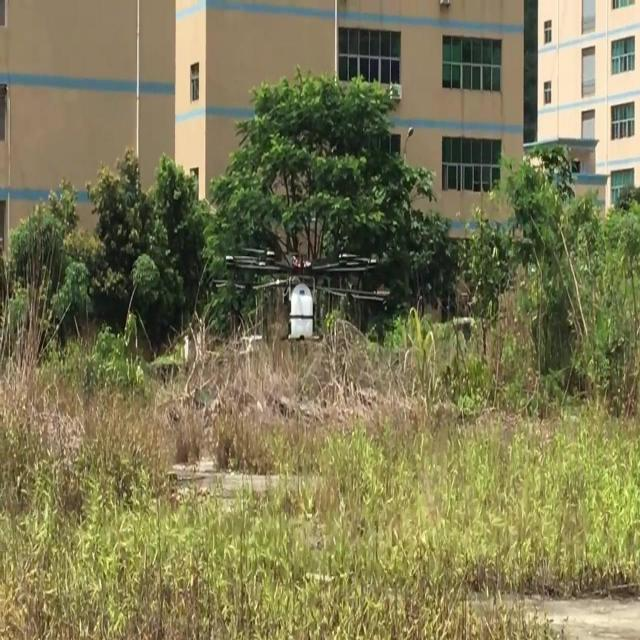UAV: (213, 247, 391, 341)
